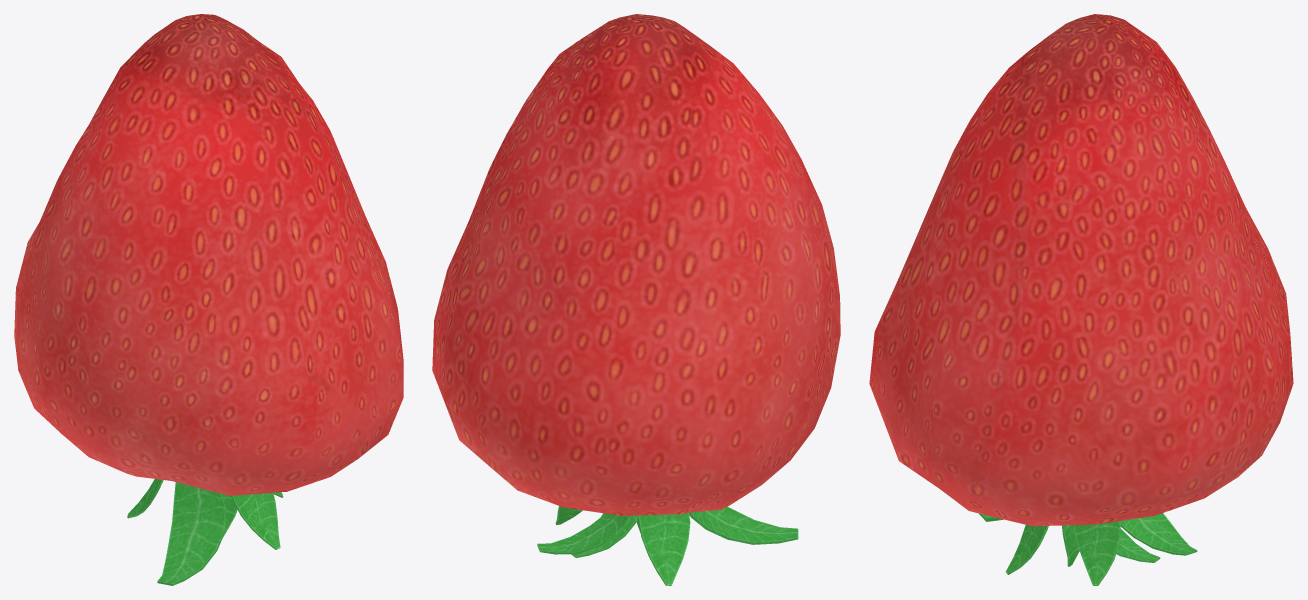
The model's file is strawberr.glb.
3 views of the same model, side by side, from view 1: azimuth 30°, elevation 25°; view 2: azimuth 150°, elevation 25°; view 3: azimuth 270°, elevation 25° (orthographic). The views are drawn at different scales.
Visible parts, largest first — view 1: strawberry; view 2: strawberry; view 3: strawberry.
Boxes of the visible parts, x1,y1,x2,y2 form: strawberry: [14, 14, 403, 585]; strawberry: [432, 14, 840, 585]; strawberry: [869, 14, 1293, 585].
Size of the model in its own units: 0.0417 by 0.0627 by 0.0444.
Materials: 1 (1 with a texture image).
